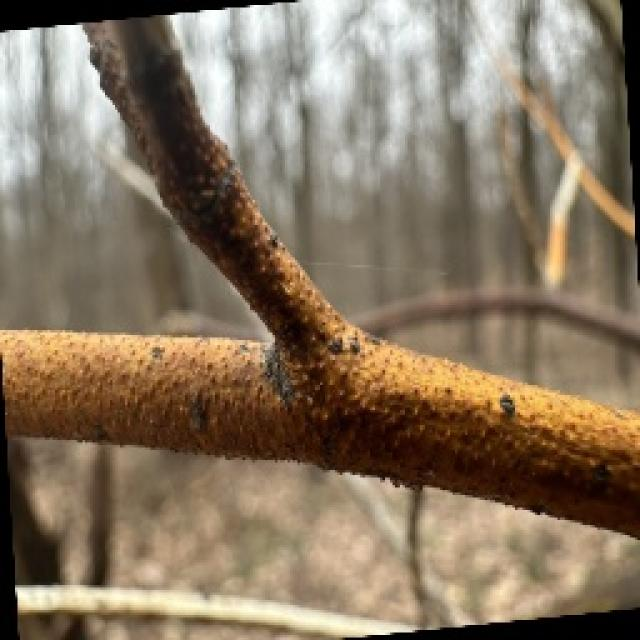Golden_canker: (0, 21, 640, 556)
